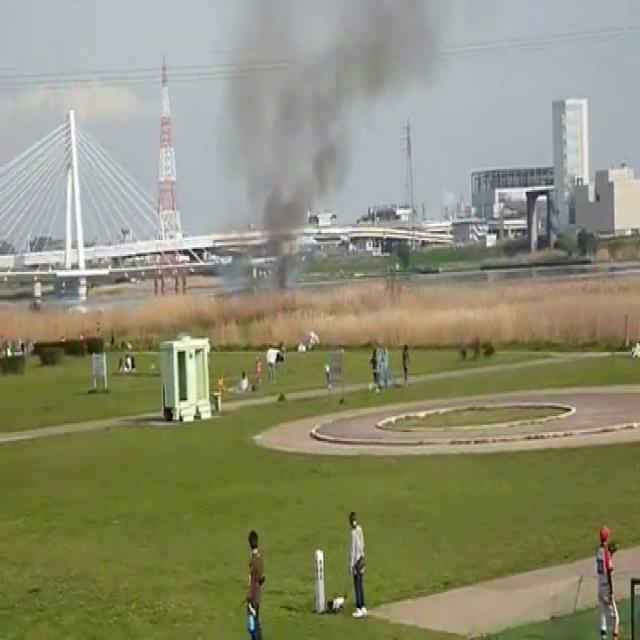Smoke: (212, 0, 640, 244), (216, 0, 487, 244)
